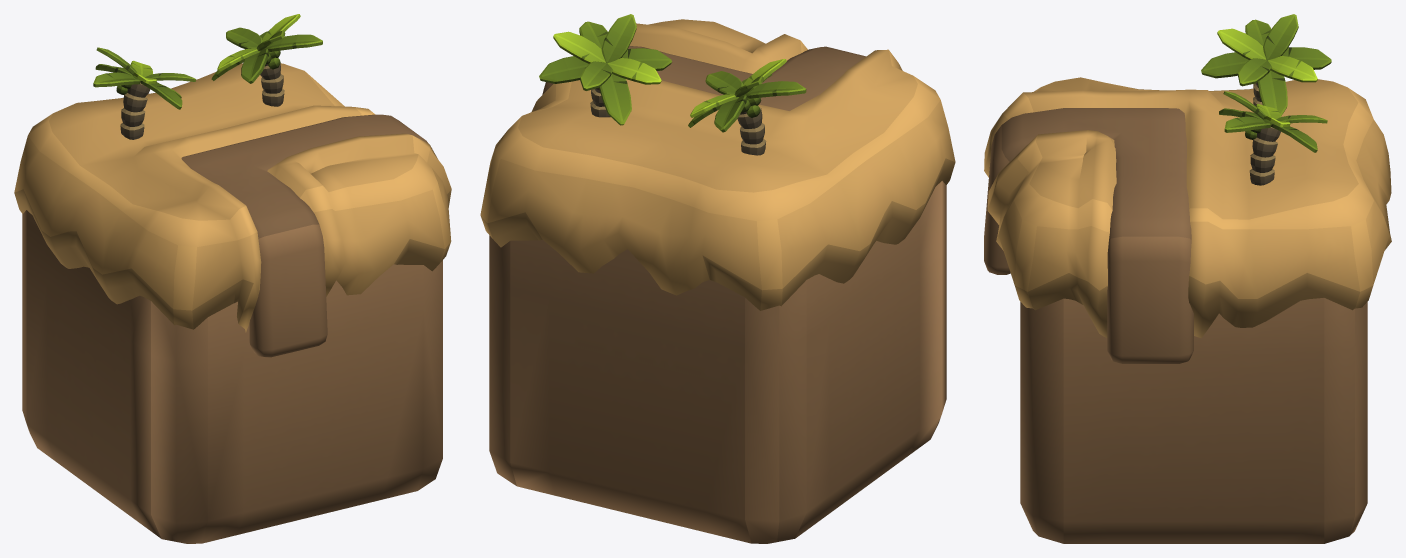
The model's file is Desert10.fbx.
3 renders of one model, left to right at view 1: azimuth 30°, elevation 25°; view 2: azimuth 150°, elevation 25°; view 3: azimuth 270°, elevation 25°, orthographic. The views are drawn at different scales.
Visible parts, largest first — view 1: Desert10, Desert10cube, Road10.003, Desert_Cube_10.003, Desert_Cube_10.002; view 2: Desert10, Desert10cube, Desert_Cube_10.003, Road10.003, Desert_Cube_10.002; view 3: Desert10, Desert10cube, Road10.003, Desert_Cube_10.002, Desert_Cube_10.003.
Boxes of the visible parts, x1,y1,x2,y2 form: Desert10: (22,210,442,543); Desert10cube: (14,63,451,332); Road10.003: (181,114,428,357); Desert_Cube_10.003: (211,14,322,106); Desert_Cube_10.002: (93,47,196,139); Desert10: (489,181,946,543); Desert10cube: (480,19,955,310); Desert_Cube_10.003: (539,14,671,125); Road10.003: (542,46,865,110); Desert_Cube_10.002: (688,59,806,155); Desert10: (1020,298,1367,543); Desert10cube: (984,77,1391,338); Road10.003: (984,108,1193,363); Desert_Cube_10.002: (1201,14,1331,116); Desert_Cube_10.003: (1219,91,1327,185).
Bounding box in the file's own units: 116 × 136 × 117.
